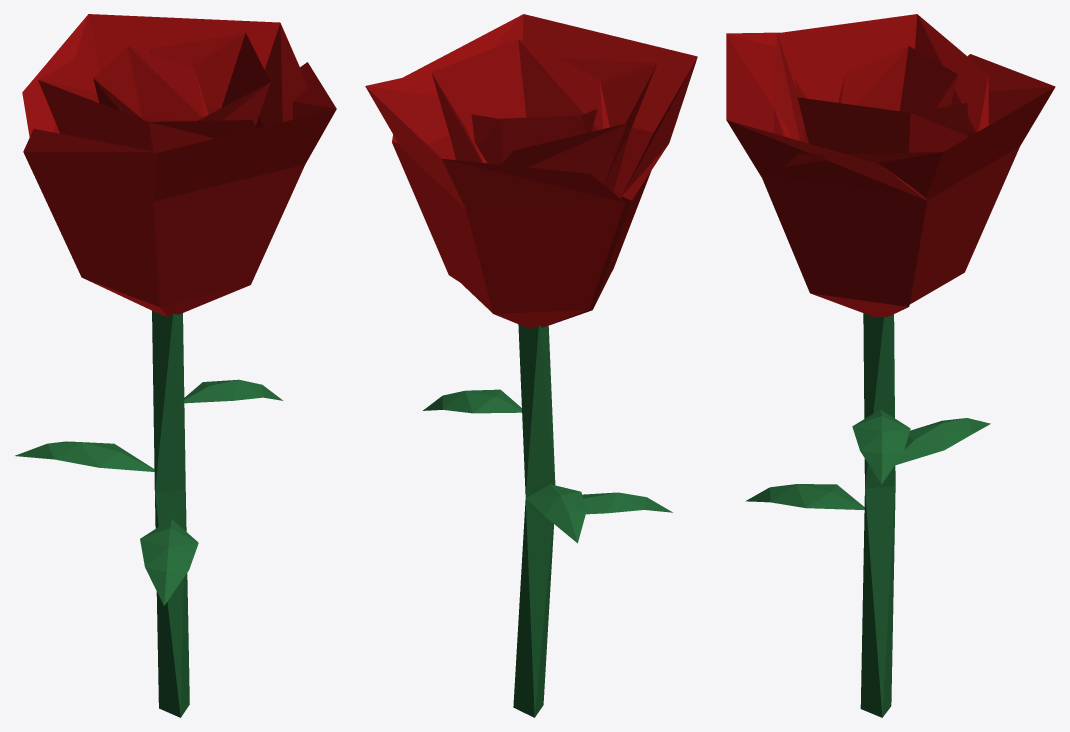
The model's file is Hilly_Prop_Flower_Rose.glb.
3 views of the same model, side by side, from view 1: azimuth 30°, elevation 25°; view 2: azimuth 150°, elevation 25°; view 3: azimuth 270°, elevation 25° (orthographic). The views are drawn at different scales.
Parts seen in each view (by area): view 1: Hilly_Prop_Flower_Rose; view 2: Hilly_Prop_Flower_Rose; view 3: Hilly_Prop_Flower_Rose.
Part boxes in pixels (x1=…): Hilly_Prop_Flower_Rose: x1=15, y1=14, x2=336, y2=717; Hilly_Prop_Flower_Rose: x1=365, y1=14, x2=697, y2=717; Hilly_Prop_Flower_Rose: x1=726, y1=14, x2=1055, y2=717.
Bounding box in the file's own units: 0.2227 × 0.4917 × 0.2295.
